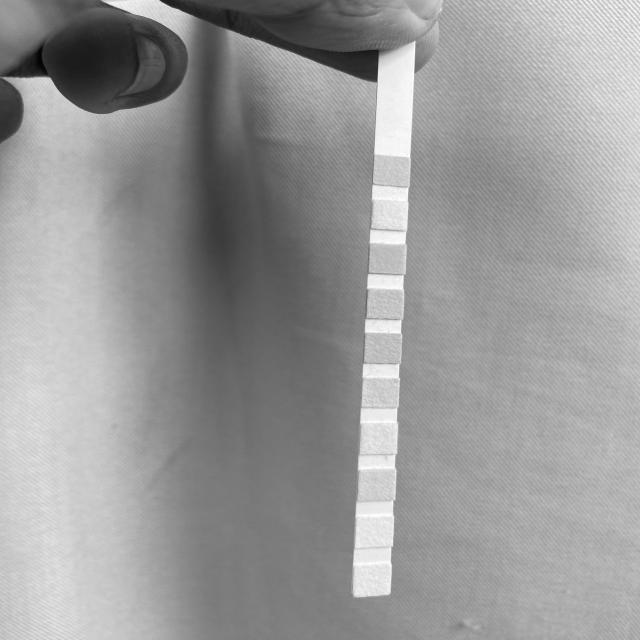Bilirubin: (372, 202, 407, 229)
Blood: (365, 334, 401, 362)
Glucose: (374, 157, 409, 185)
Ketone: (369, 245, 406, 274)
Leukocytes: (354, 566, 390, 595)
Nitrite: (357, 517, 393, 546)
Protein: (360, 423, 397, 454)
SpGravity: (367, 290, 403, 317)
Urobilinogen: (359, 470, 395, 500)
background: (0, 0, 640, 640)
pH: (363, 378, 398, 407)
strip: (352, 56, 416, 597)
